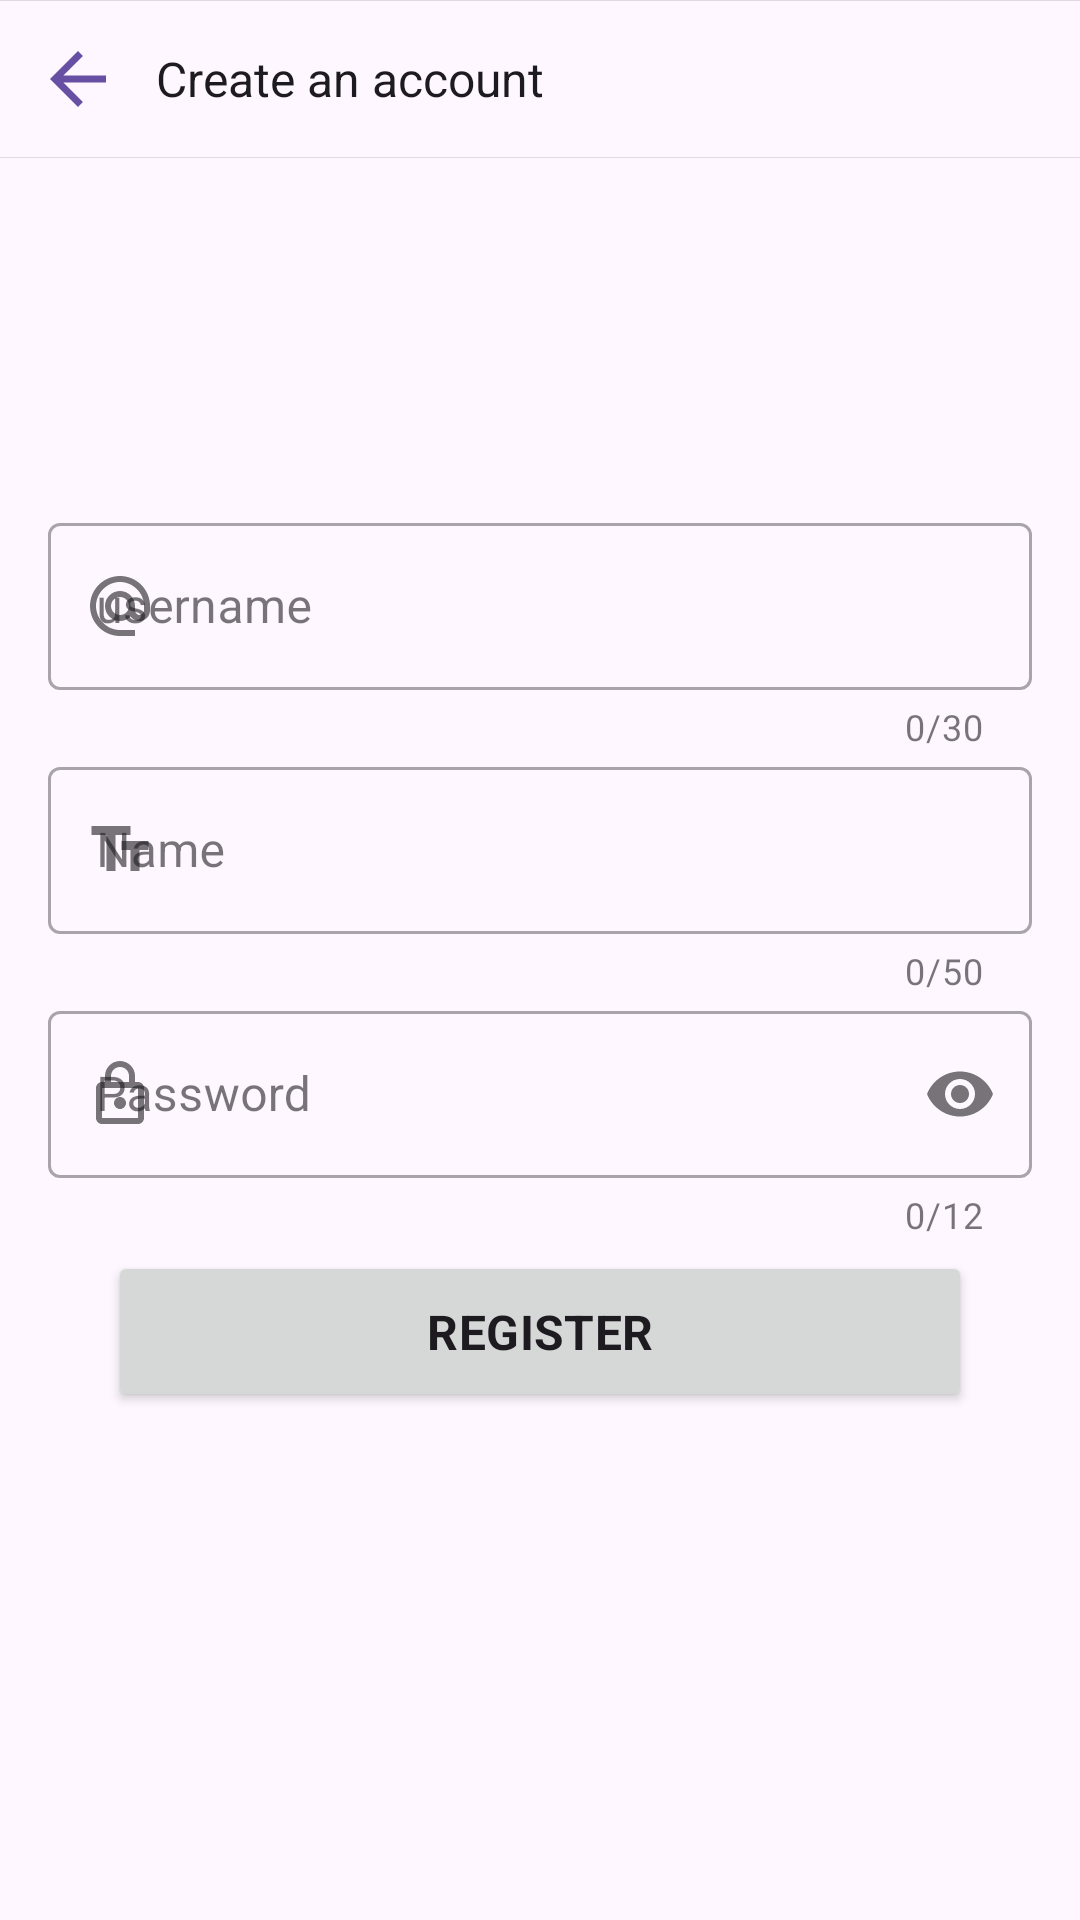

Named icons in this screenshot (1080 x 1920) and their bounding boxes, Rect(x1, y1, x2, y2):
arrow back: Rect(50, 51, 106, 107)
